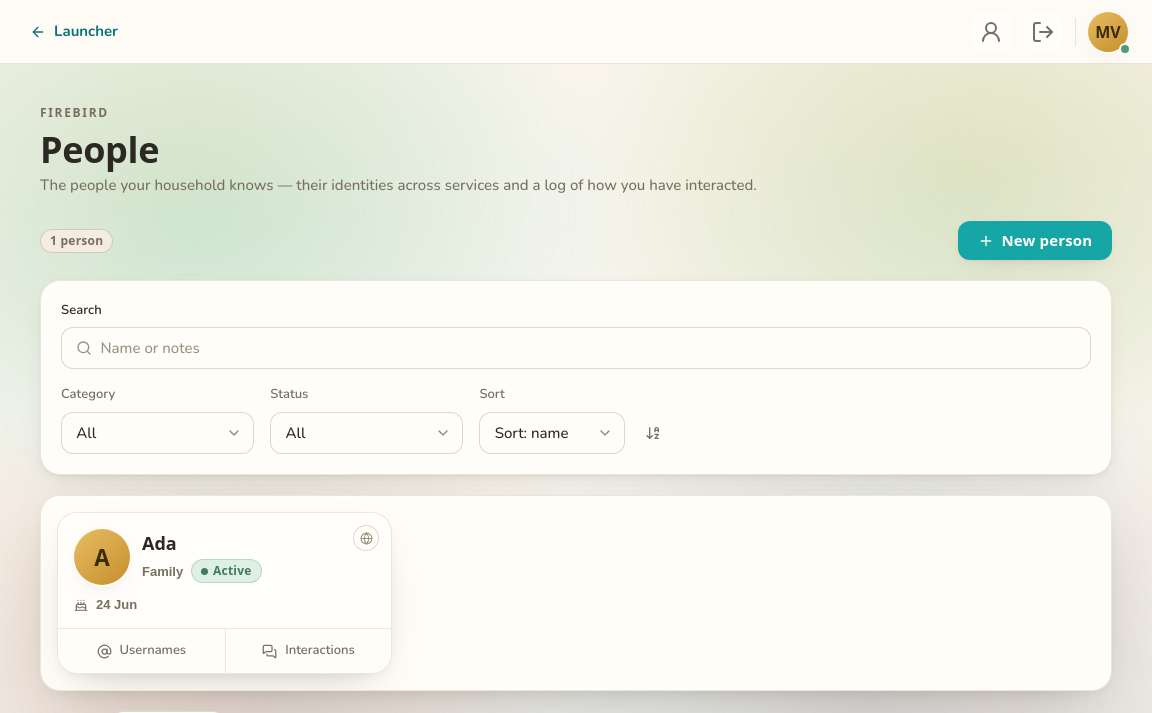
Test: Firebird gallery › creates usernames from the popup with platform selection and validation
Expected: the text "Ada" is shown, [142,531,177,555]
Click the button with aria-label "Open usernames for Ada".
click(141, 651)  # box [58,629,225,673]
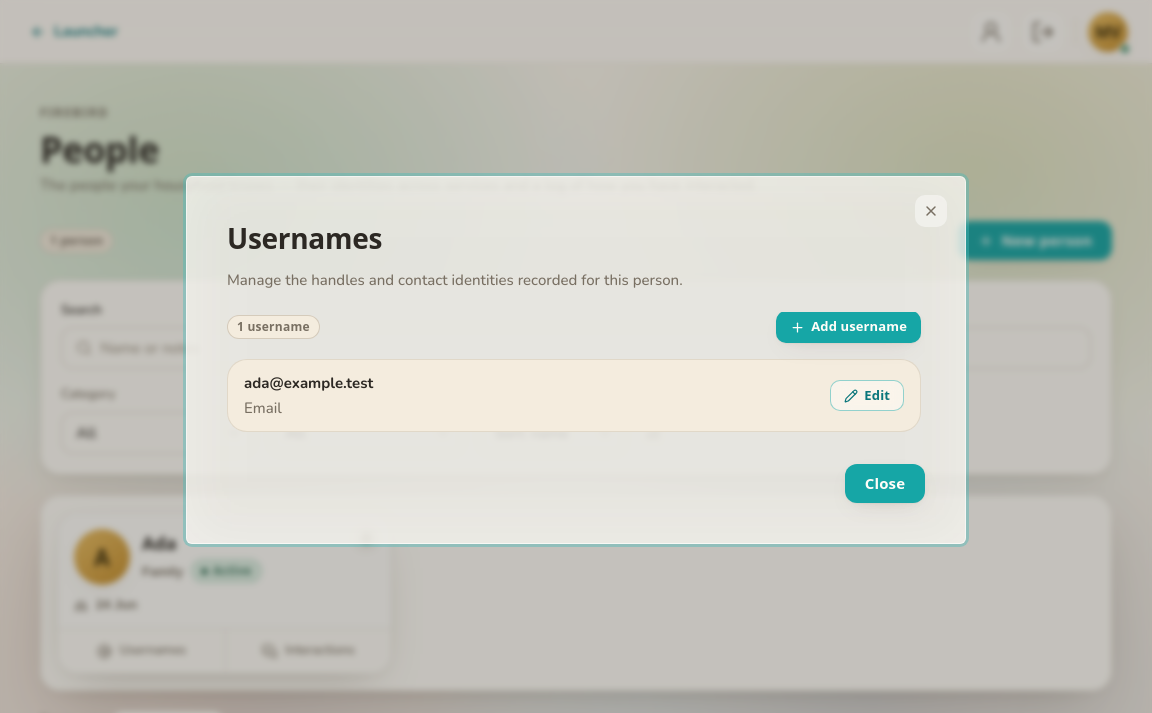
Expected: the text "ada@example.test" is shown, [244,373,373,393]
Click the button "Add username".
click(848, 327)  # box [776,312,921,343]
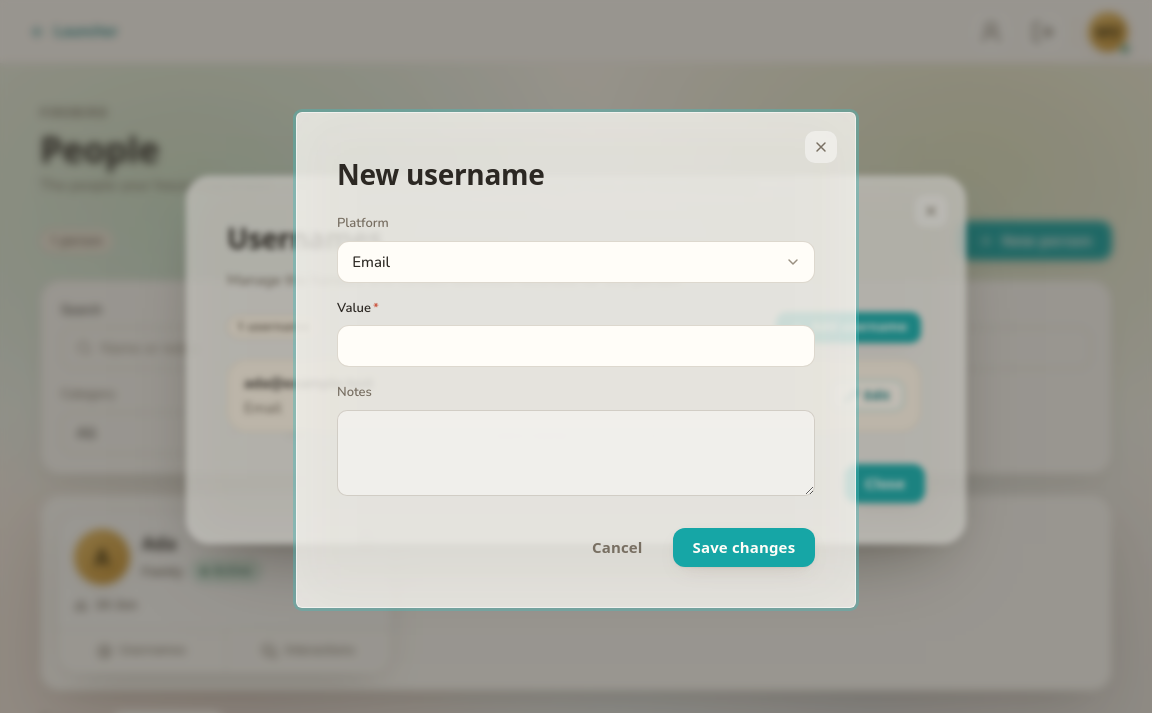
Click the button "Save changes".
click(744, 548)  # box [673,528,815,567]
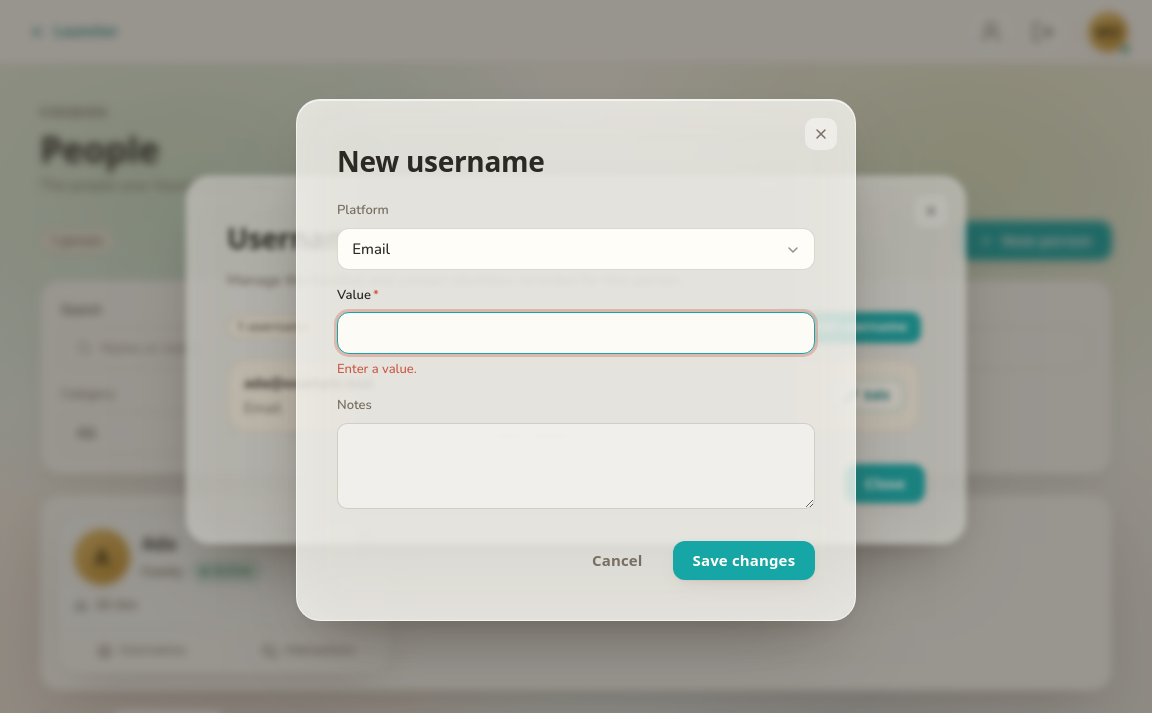
Expected: the text "Enter a value." is shown, [337,360,417,378]
Type "  ada@armali.test  " into the field labelled "Value".
click(576, 333); type("  ada@armali.test  ")  # box [352,314,800,352]
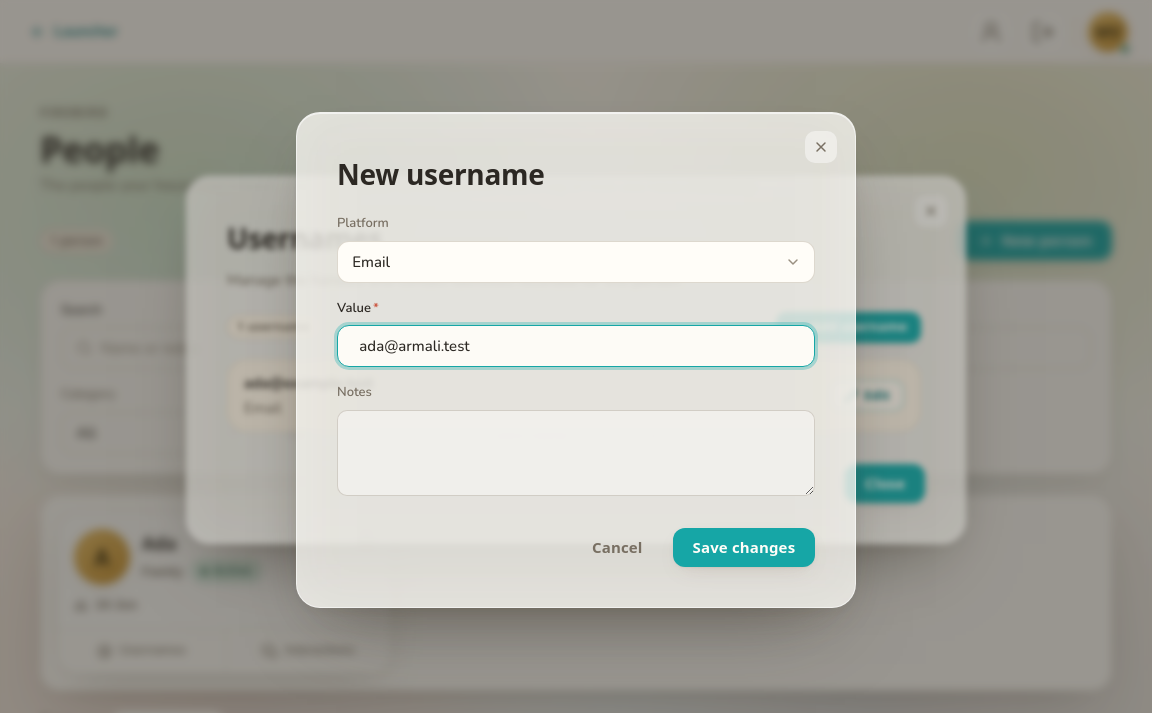
Click the button "Save changes".
click(744, 548)  # box [673,528,815,567]
(page scrolled)
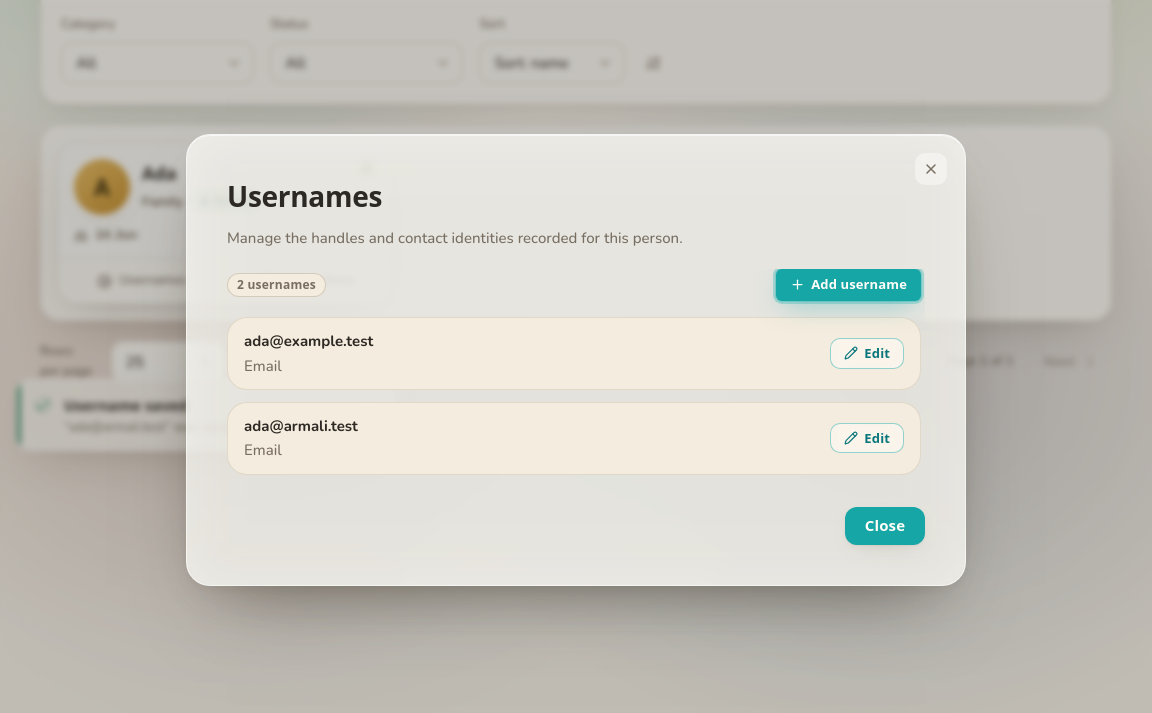
Expected: the text "Username saved" is shown, [64,395,188,415]
